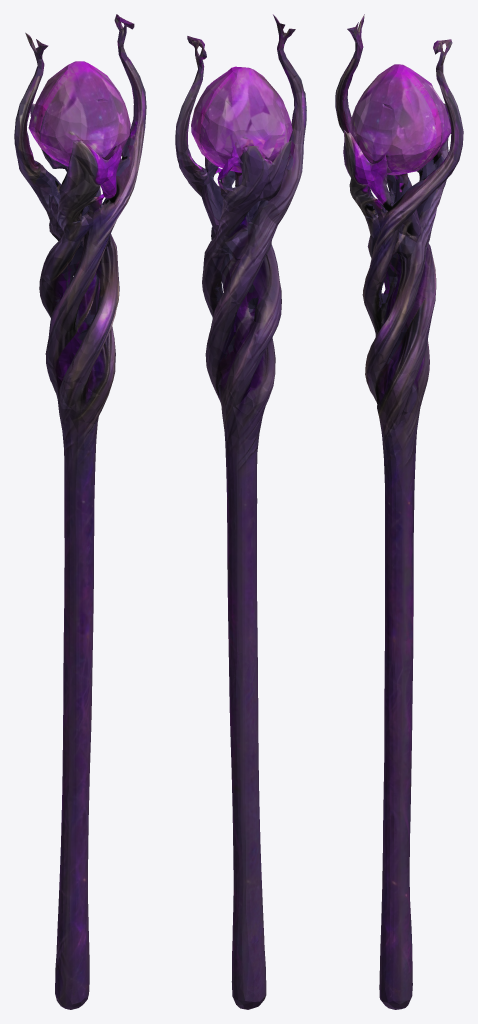
The model's file is Enchanted_Amethyst_St_0410015409_texture.fbx.
3 views of the same model, side by side, from view 1: azimuth 30°, elevation 25°; view 2: azimuth 210°, elevation 25°; view 3: azimuth 330°, elevation 25° (orthographic).
Parts seen in each view (by area): view 1: temp; view 2: temp; view 3: temp.
Part boxes in pixels (x1,y1,x2,y2): temp: (14,14,146,1009); temp: (175,14,306,1009); temp: (335,14,463,1009).
Size of the model in its own units: 27.57 by 200 by 22.82.
Materials: 1 (1 with a texture image).
